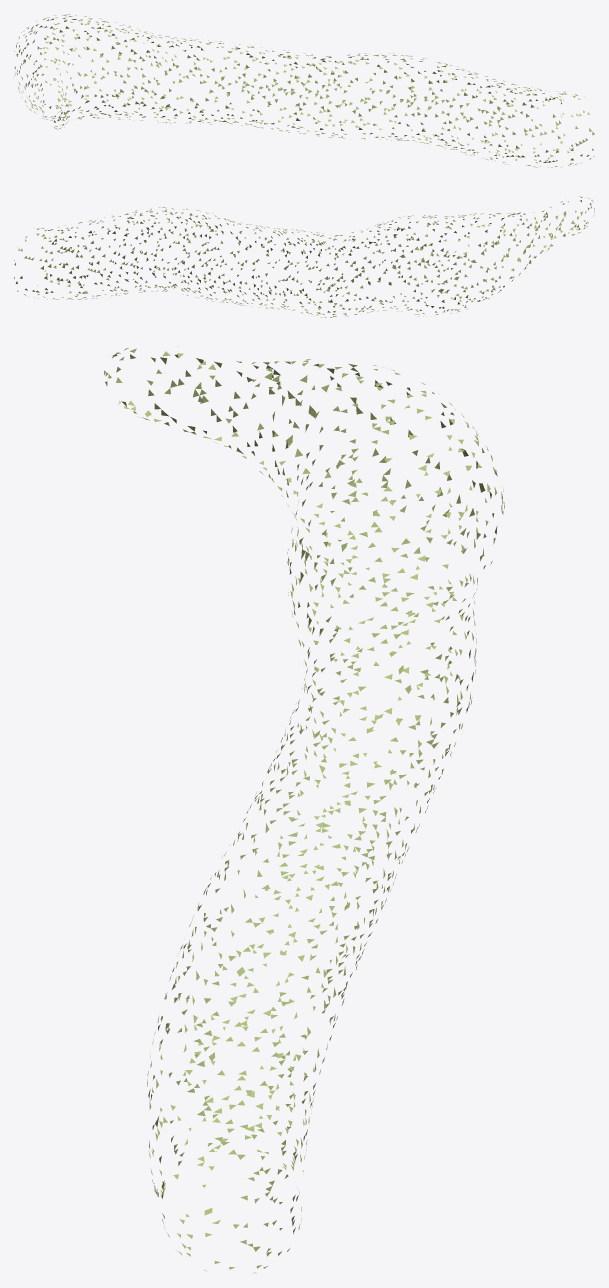
The model's file is morph_011.glb.
3 views of the same model, one above another, from view 1: azimuth 30°, elevation 25°; view 2: azimuth 150°, elevation 25°; view 3: azimuth 270°, elevation 25° (orthographic). The views are drawn at different scales.
Bounding box in the file's own units: 108 × 42.01 × 34.99.
